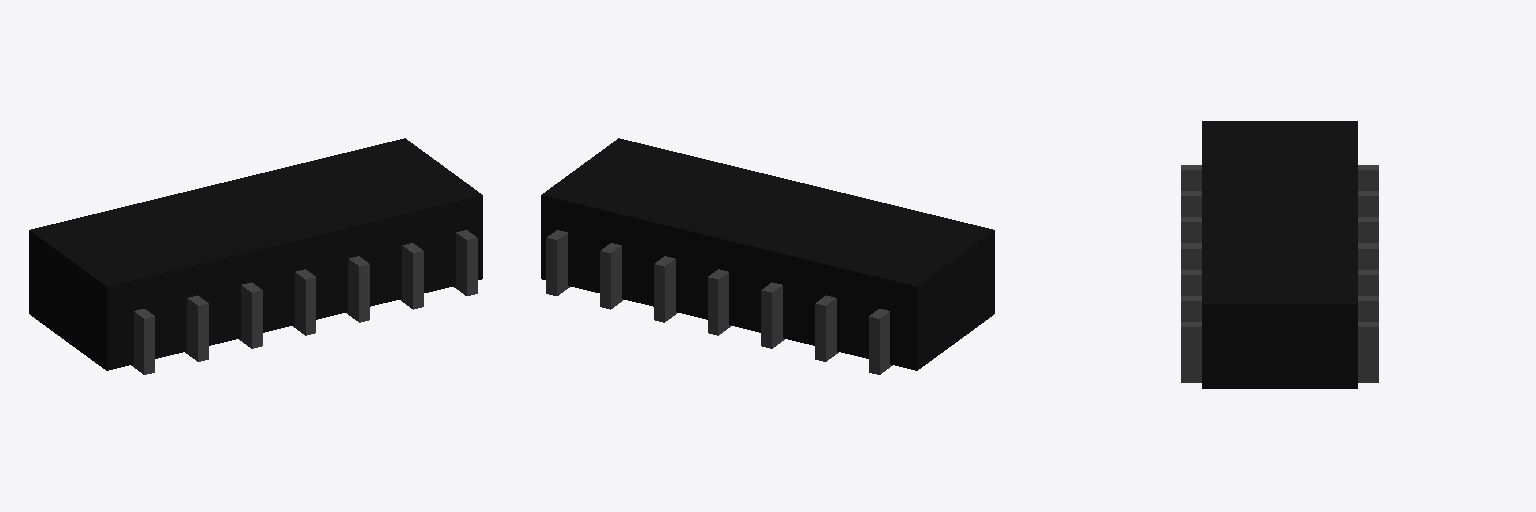
Rendered from cint.obj.
3 renders of one model, left to right at view 1: azimuth 30°, elevation 25°; view 2: azimuth 150°, elevation 25°; view 3: azimuth 270°, elevation 25°, orthographic.
Parts seen in each view (by area): view 1: mesh01, mesh06, mesh04, mesh08, mesh03, mesh05, mesh02, mesh07; view 2: mesh01, mesh06, mesh04, mesh08, mesh03, mesh05, mesh02, mesh07; view 3: mesh01, mesh03, mesh07, mesh02, mesh04, mesh05, mesh06, mesh08.
Part boxes in pixels (x1,y1,x2,y2): mesh01: (29, 138, 482, 370); mesh06: (400, 243, 423, 309); mesh04: (185, 295, 208, 361); mesh08: (239, 282, 262, 348); mesh03: (453, 230, 477, 295); mesh05: (347, 256, 369, 322); mesh02: (131, 309, 154, 374); mesh07: (293, 269, 315, 335); mesh01: (541, 138, 994, 370); mesh06: (600, 243, 623, 309); mesh04: (815, 295, 838, 361); mesh08: (761, 282, 784, 348); mesh03: (546, 230, 570, 295); mesh05: (654, 256, 676, 322); mesh02: (869, 309, 892, 374); mesh07: (708, 269, 730, 335); mesh01: (1202, 121, 1357, 388); mesh03: (1181, 322, 1378, 382); mesh07: (1181, 243, 1378, 269); mesh02: (1181, 165, 1378, 190); mesh04: (1181, 191, 1378, 216); mesh05: (1181, 270, 1378, 295); mesh06: (1181, 296, 1378, 321); mesh08: (1181, 217, 1378, 242).
Bounding box in the file's own units: 17.5 × 3.88 × 8.